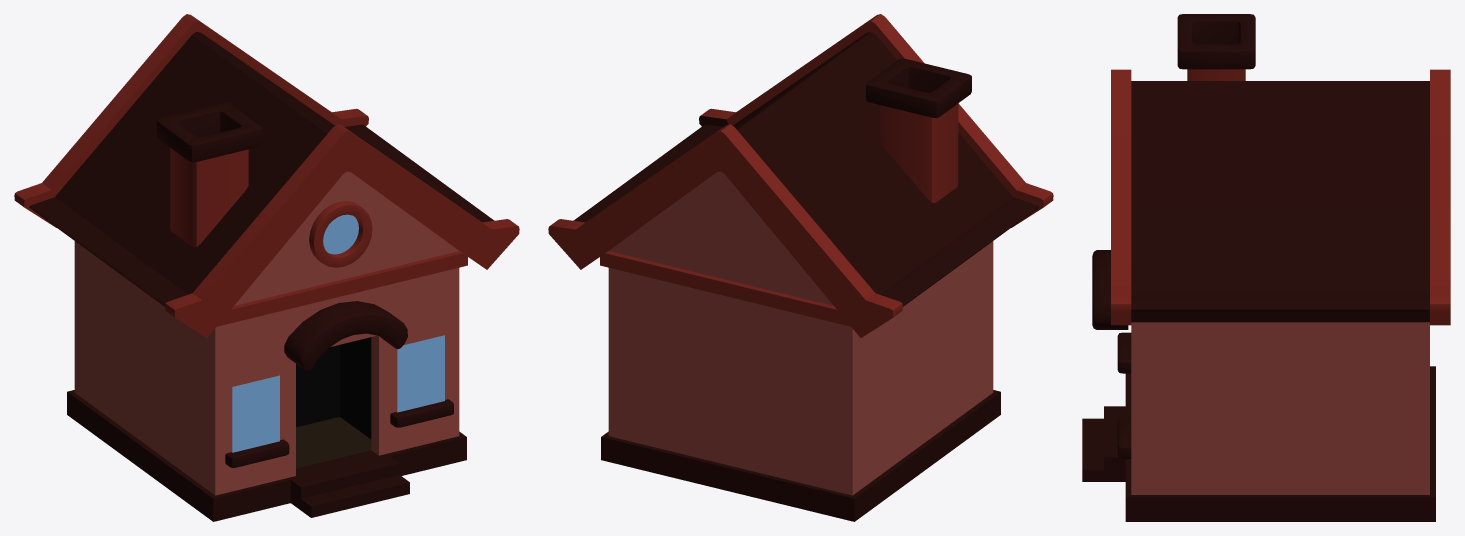
The model's file is 3D_Prop_House.fbx.
3 renders of one model, left to right at view 1: azimuth 30°, elevation 25°; view 2: azimuth 150°, elevation 25°; view 3: azimuth 270°, elevation 25°, orthographic. The views are drawn at different scales.
Parts seen in each view (by area): view 1: Box001; view 2: Box001; view 3: Box001.
Part boxes in pixels (left/top/right/bottom): Box001: left=14, top=14, right=519, bottom=521; Box001: left=548, top=14, right=1053, bottom=521; Box001: left=1082, top=14, right=1450, bottom=521.
Size of the model in its own units: 1684 by 1702 by 1470.
